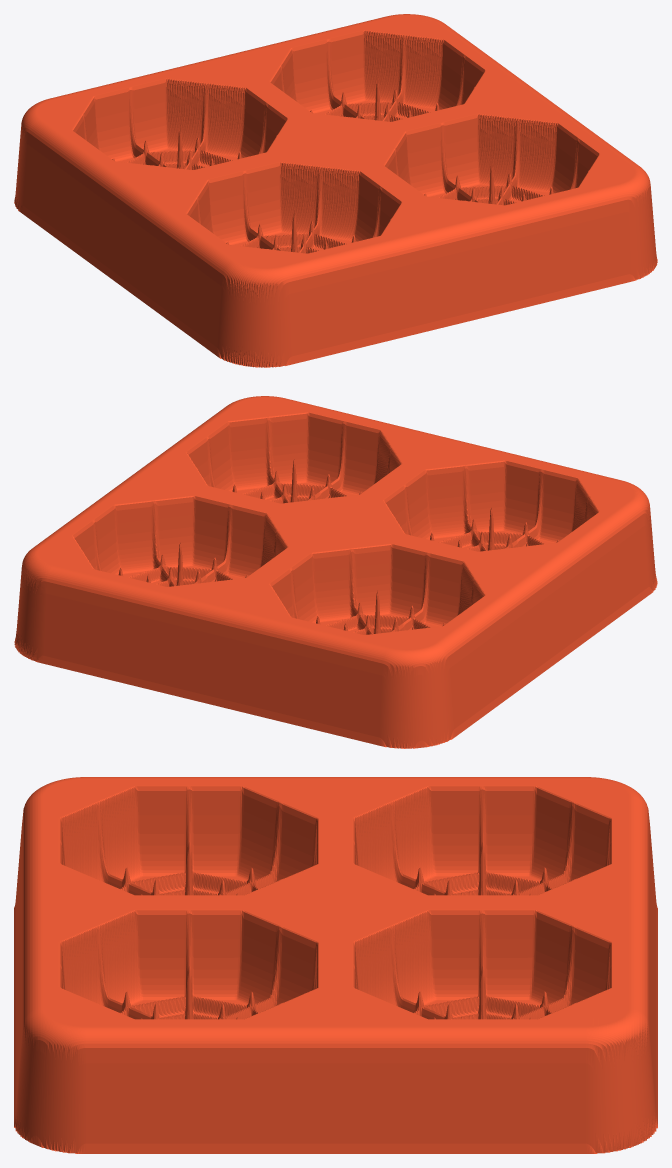
The model's file is mold.glb.
The picture shows the model from 3 angles, top to bottom: view 1: azimuth 30°, elevation 25°; view 2: azimuth 150°, elevation 25°; view 3: azimuth 270°, elevation 25°; orthographic projection. The views are drawn at different scales.
Visible parts, largest first — view 1: geometry_0; view 2: geometry_0; view 3: geometry_0.
Boxes of the visible parts, bbox=[...] form: geometry_0: bbox=[14, 14, 657, 367]; geometry_0: bbox=[14, 396, 657, 748]; geometry_0: bbox=[14, 777, 657, 1153].
Size of the model in its own units: 0.0808 by 0.0159 by 0.0808.
